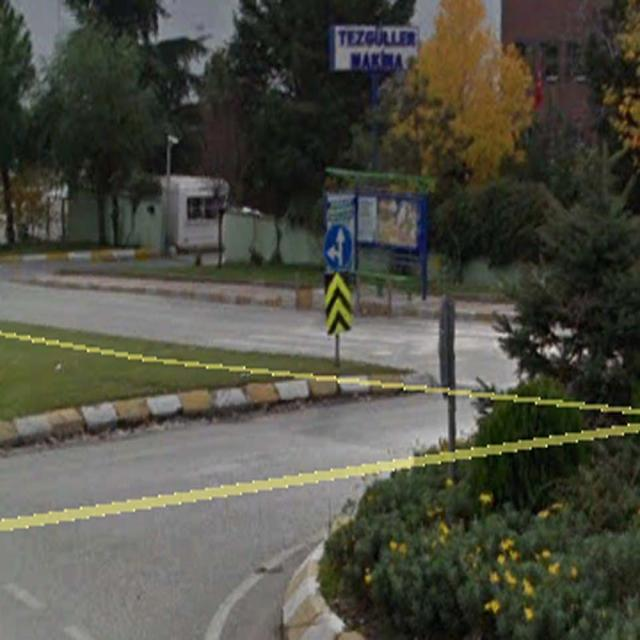ilerisol: (323, 224, 352, 270)
